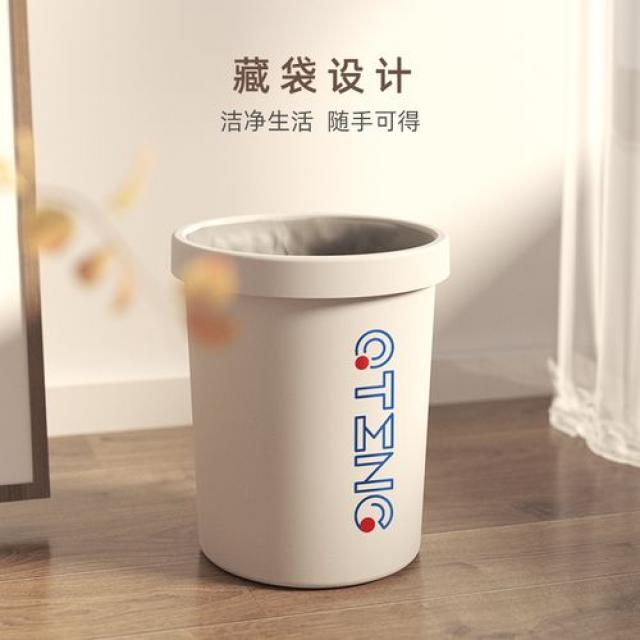Dustbin: (166, 208, 452, 591)
